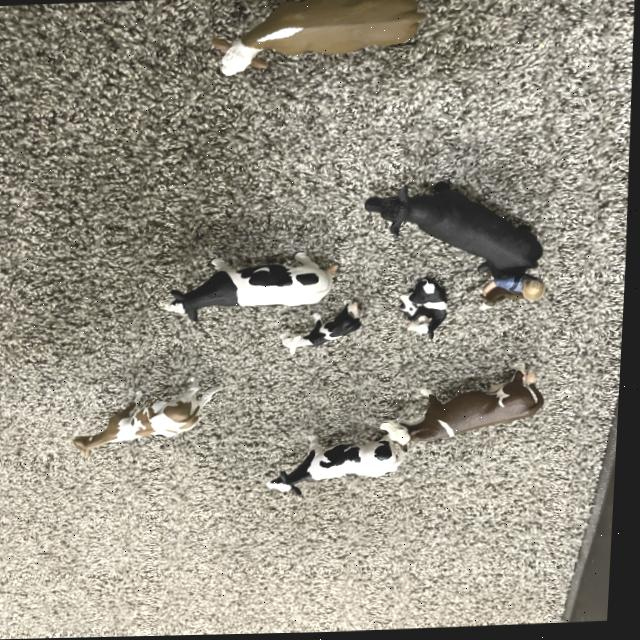cow: (360, 158, 556, 293), (209, 0, 429, 78), (161, 240, 345, 327), (378, 363, 551, 455), (71, 373, 234, 459), (263, 417, 416, 503), (280, 297, 370, 359), (390, 270, 463, 344), (479, 283, 529, 312), (535, 293, 549, 304)
person: (495, 267, 551, 306)
